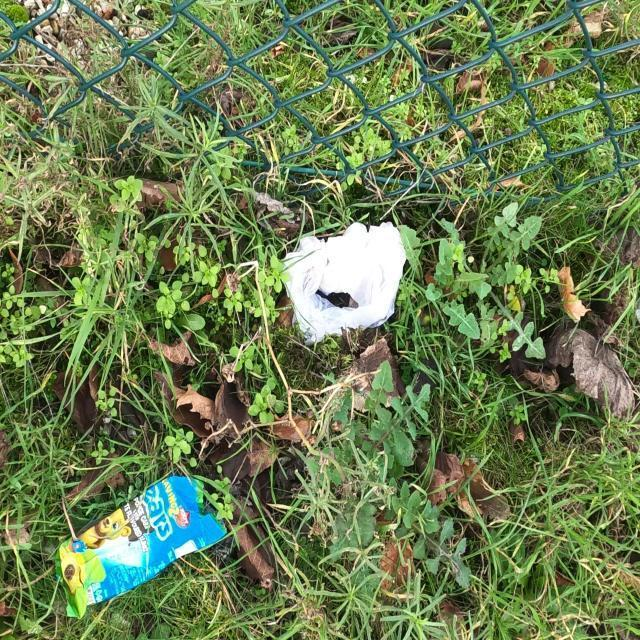Plastic: (54, 467, 238, 610)
